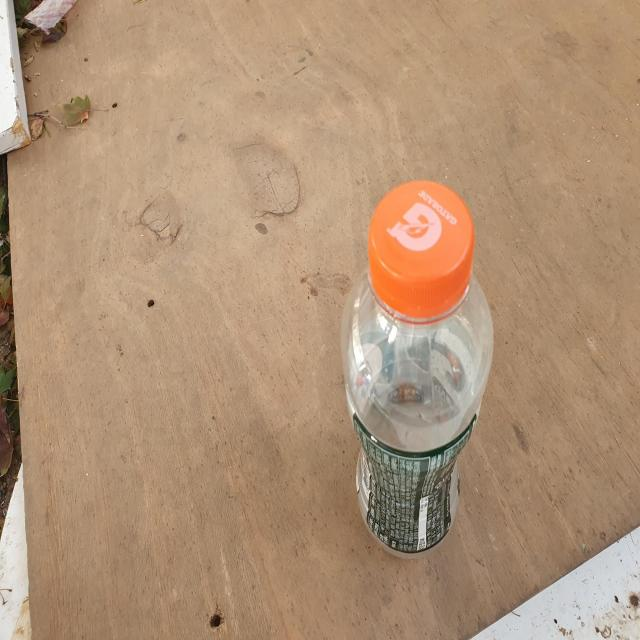plastic: (342, 180, 494, 557)
